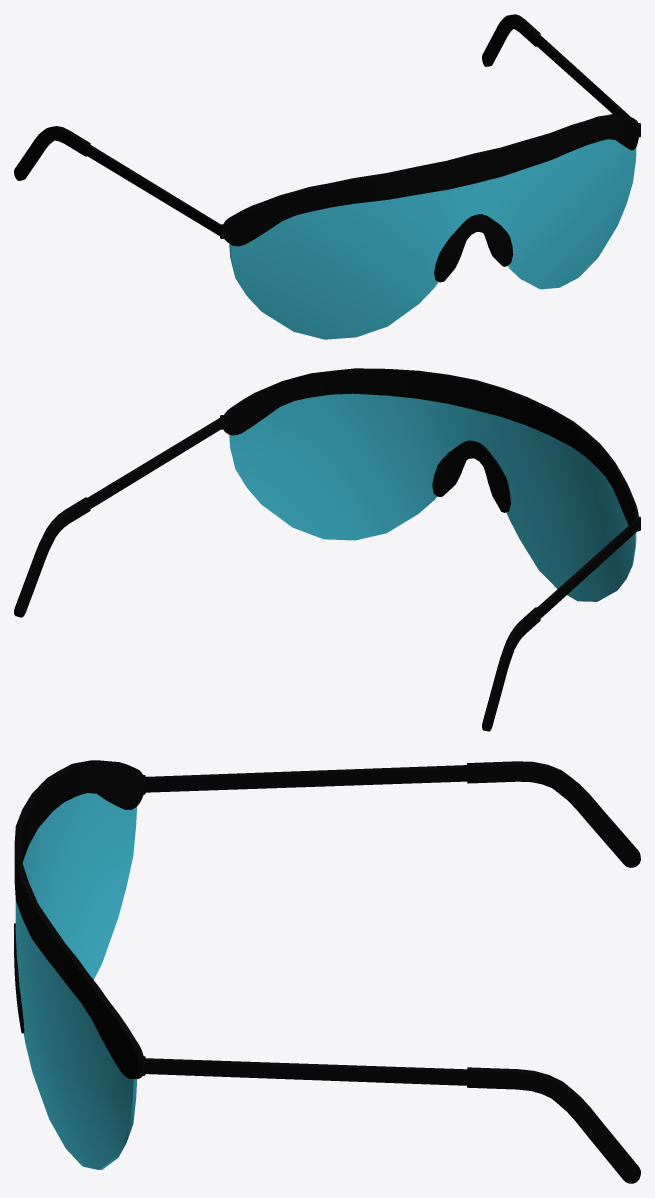
File: glasses-5.glb
The picture shows the model from 3 angles, top to bottom: view 1: azimuth 30°, elevation 25°; view 2: azimuth 150°, elevation 25°; view 3: azimuth 270°, elevation 25°; orthographic projection. The views are drawn at different scales.
Parts seen in each view (by area): view 1: glasses21.001; view 2: glasses21.001; view 3: glasses21.001.
Boxes of the visible parts, bbox=[...] form: glasses21.001: bbox=[14, 14, 640, 339]; glasses21.001: bbox=[14, 368, 640, 731]; glasses21.001: bbox=[14, 760, 640, 1183].
Bounding box in the file's own units: 2.11 × 0.7317 × 1.75.
